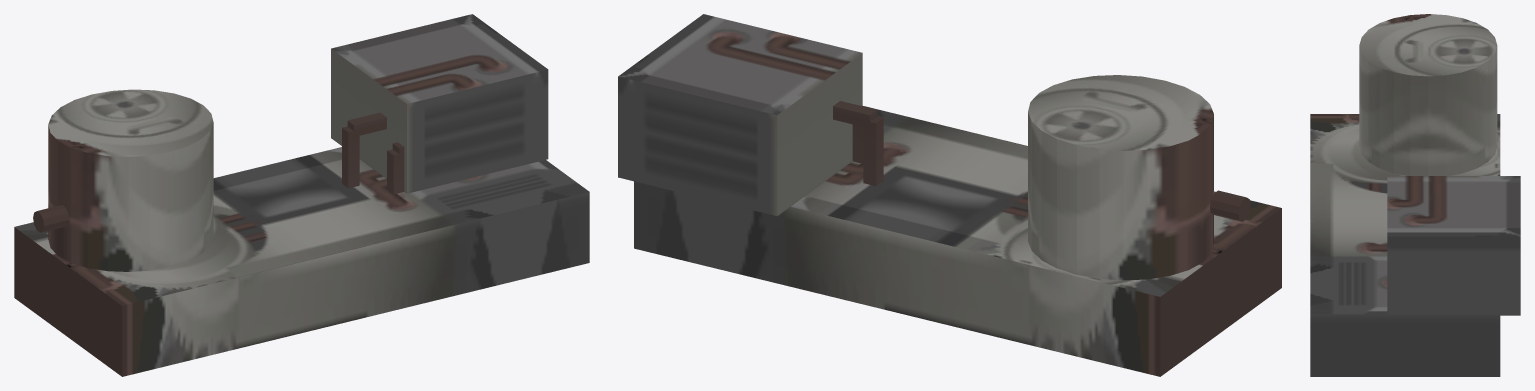
File: Building_BioferriteShaper.glb
3 renders of one model, left to right at view 1: azimuth 30°, elevation 25°; view 2: azimuth 150°, elevation 25°; view 3: azimuth 270°, elevation 25°, orthographic. The views are drawn at different scales.
Visible parts, largest first — view 1: BioferriteShaper; view 2: BioferriteShaper; view 3: BioferriteShaper.
Part boxes in pixels (<box>): BioferriteShaper: <box>14,14,589,376</box>; BioferriteShaper: <box>618,14,1281,376</box>; BioferriteShaper: <box>1310,14,1520,376</box>.
Bounding box in the file's own units: 3.06 × 1.1 × 1.28.
1 material, 1 textured.
